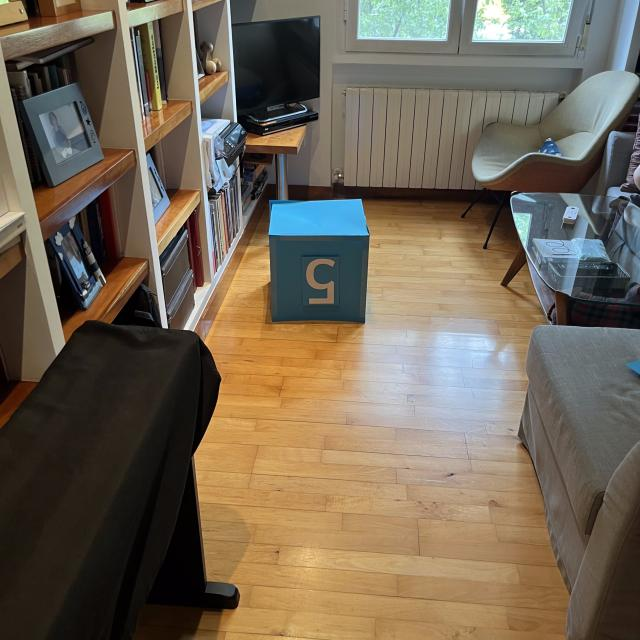box: (264, 194, 373, 326)
